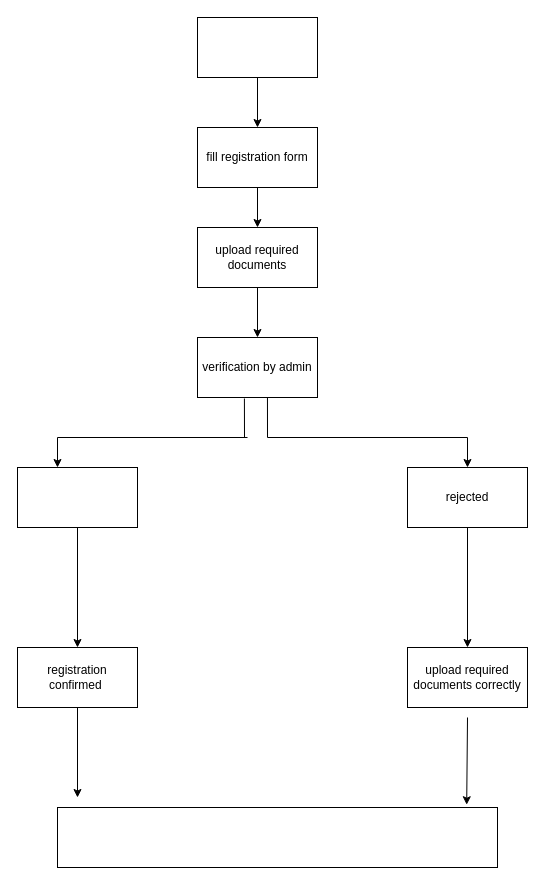
Some shapes in this 545 by 885 pixel diagram are drawn without their labels. The box of each missing label's shape, as (x1, y1, x2, y2) in pixels:
approved: (16, 466, 138, 528)
end: (56, 806, 498, 868)
start registration: (196, 16, 318, 78)
